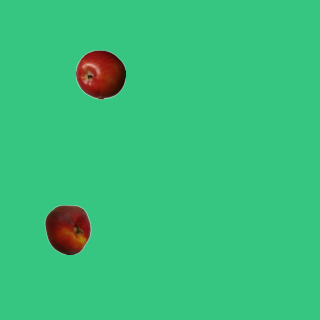Apple Braeburn: (75, 49, 125, 99)
Nectarine Flat: (42, 204, 92, 254)
